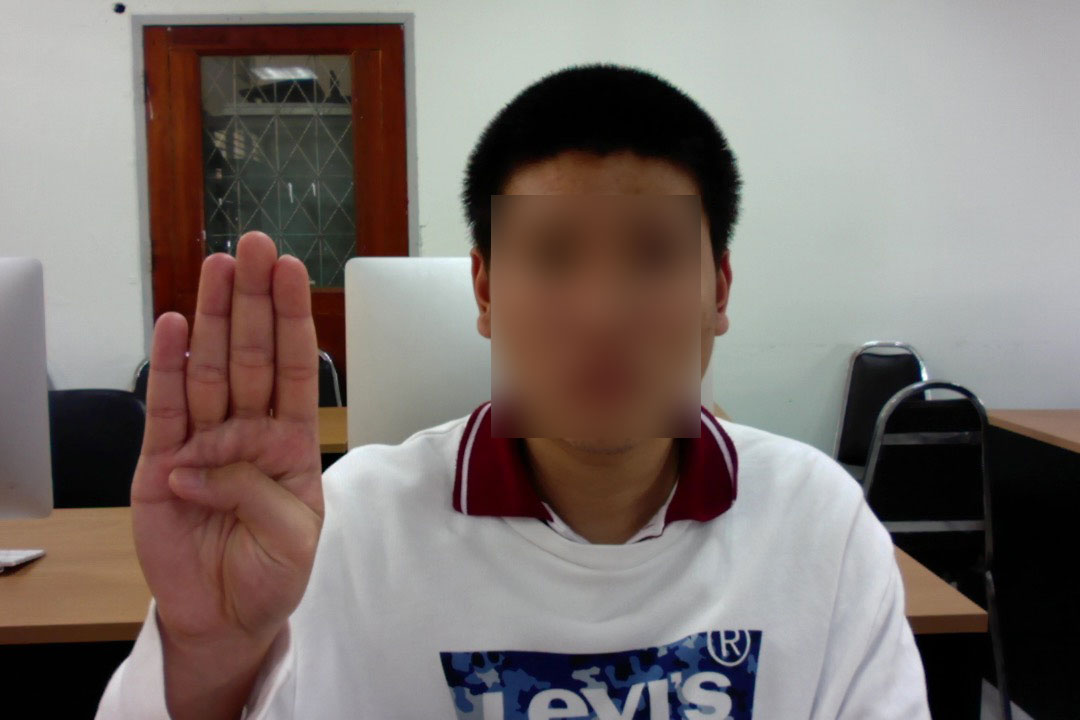bor: (125, 224, 331, 653)
